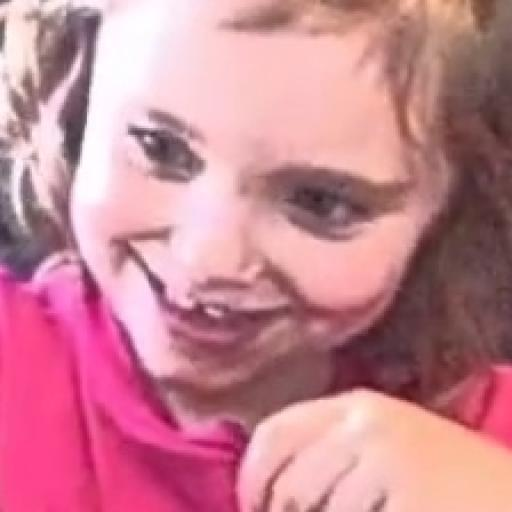Autism: (32, 0, 448, 427)
